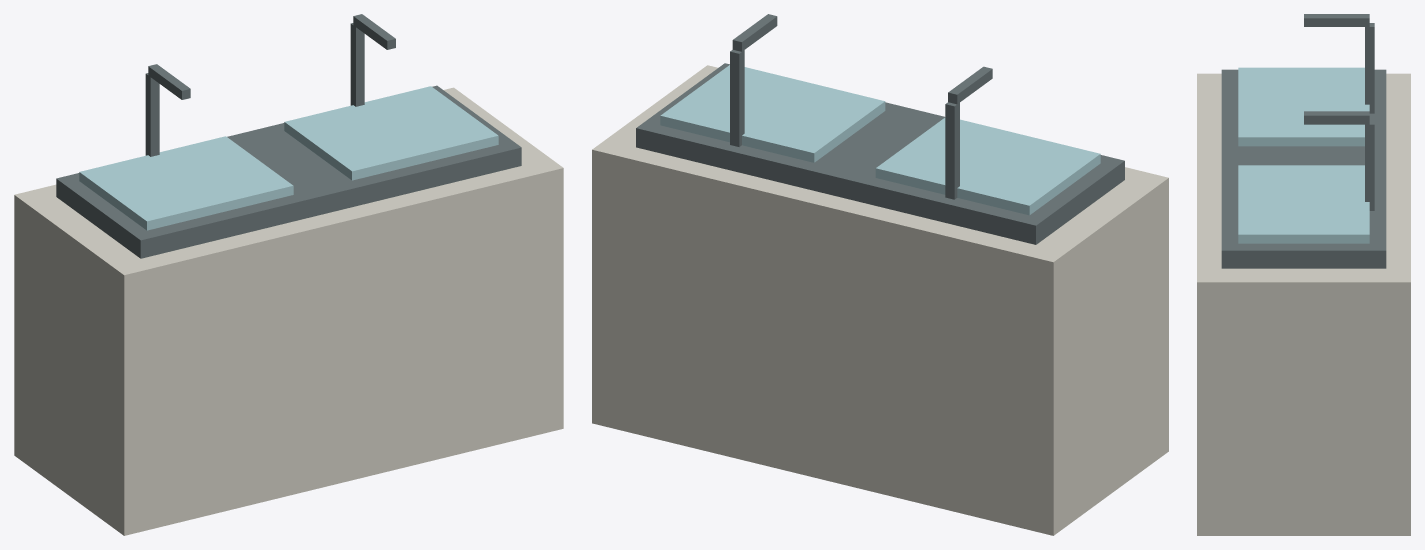
File: supermarket-operations-wash-station-8adb8792__26825.glb
The picture shows the model from 3 angles, left to right: view 1: azimuth 30°, elevation 25°; view 2: azimuth 150°, elevation 25°; view 3: azimuth 270°, elevation 25°; orthographic projection. The views are drawn at different scales.
Parts seen in each view (by area): view 1: wash-station; view 2: wash-station; view 3: wash-station.
Boxes of the visible parts, <box> form: wash-station: <box>14,14,563,535</box>; wash-station: <box>592,14,1168,535</box>; wash-station: <box>1197,14,1410,535</box>.
Bounding box in the file's own units: 1.5 × 1.23 × 0.6499.
